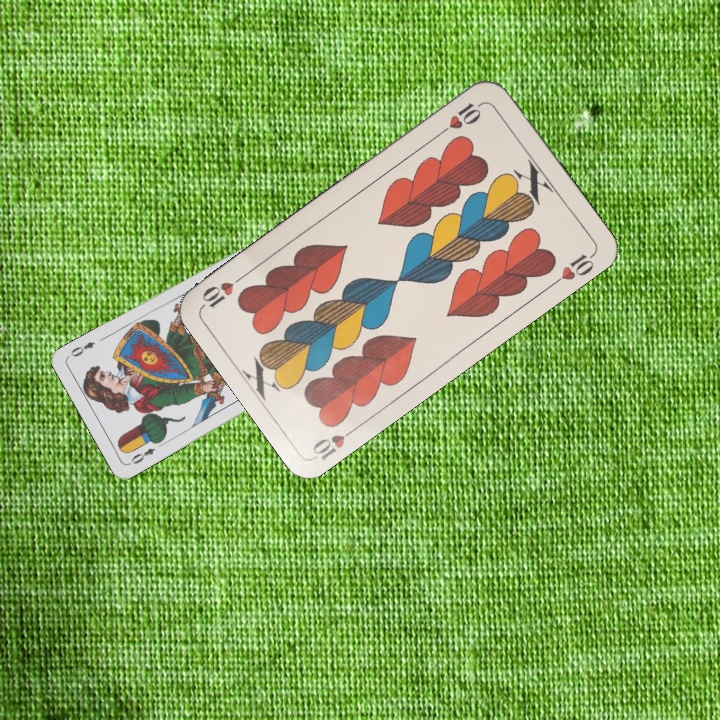EO: (127, 444, 158, 466)
H10: (308, 421, 362, 463), (435, 98, 486, 138)
